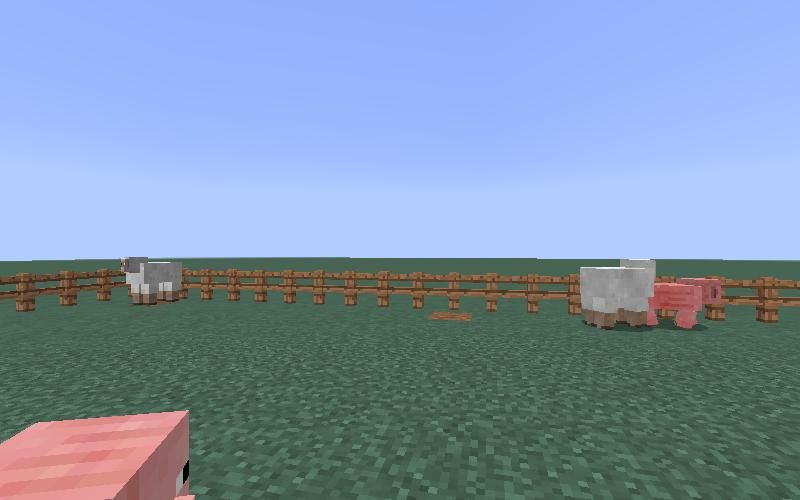pig: (1, 409, 194, 500), (638, 275, 726, 334)
sheep: (575, 257, 661, 332), (118, 255, 188, 307)
